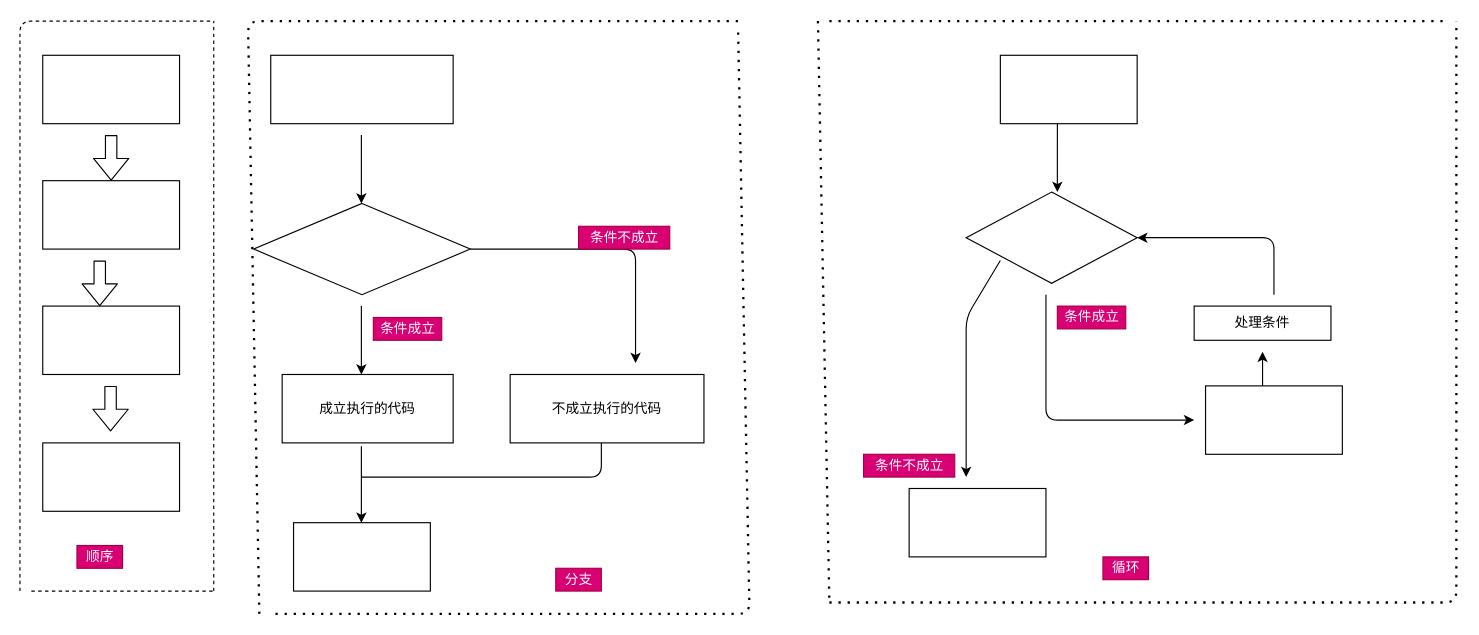
The diagram is 1479 pixels wide and 635 high, and some of its shapes have lost their labels. The shapes that lost their labels are listed below. From the top down, each one's centre as x and y in pixels, then its label:
the point at 361,248: 条件?
the point at 1051,237: 条件
the point at 1273,419: 循环执行的代码
